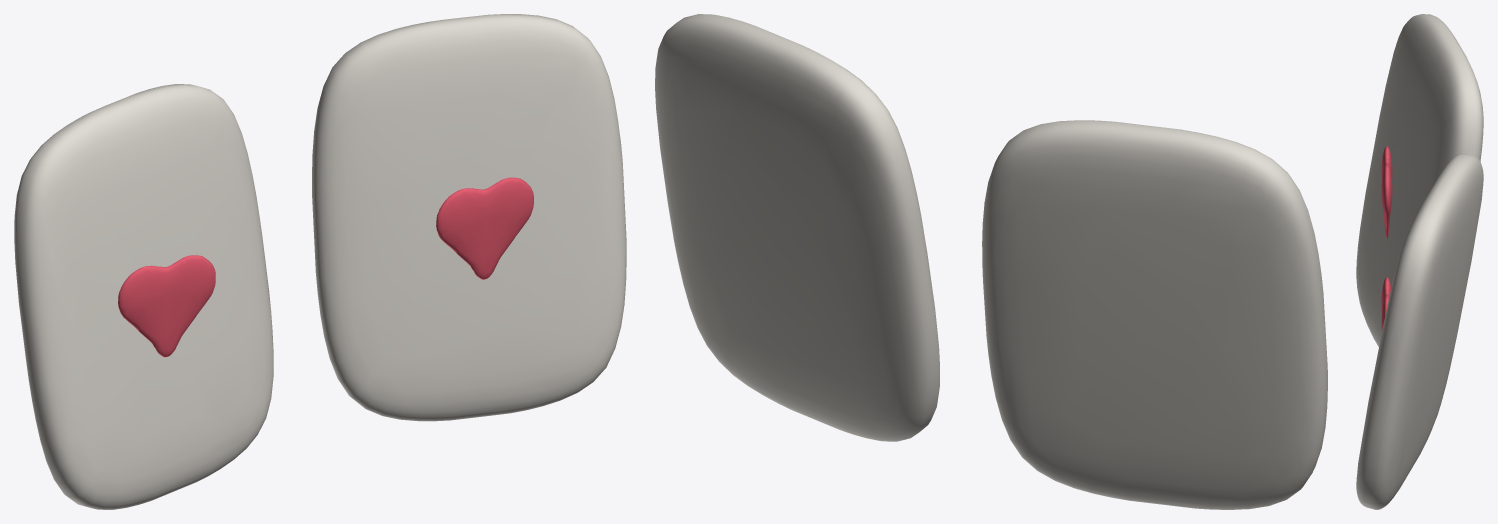
Rendered from deco_portarretrato.glb.
3 views of the same model, side by side, from view 1: azimuth 30°, elevation 25°; view 2: azimuth 150°, elevation 25°; view 3: azimuth 270°, elevation 25° (orthographic). The views are drawn at different scales.
Visible parts, largest first — view 1: marco portarretrato 1.001, marco portarretrato 0.001, corazón portarretrato 1.001, corazón portarretrato 0.001; view 2: marco portarretrato 0.001, marco portarretrato 1.001; view 3: marco portarretrato 1.001, marco portarretrato 0.001, corazón portarretrato 0.001, corazón portarretrato 1.001.
Boxes of the visible parts, x1,y1,x2,y2 form: marco portarretrato 1.001: (312,14,626,421); marco portarretrato 0.001: (14,84,273,509); corazón portarretrato 1.001: (436,177,533,279); corazón portarretrato 0.001: (118,255,215,357); marco portarretrato 0.001: (982,120,1327,509); marco portarretrato 1.001: (655,14,939,441); marco portarretrato 1.001: (1356,153,1483,509); marco portarretrato 0.001: (1356,14,1483,346); corazón portarretrato 0.001: (1381,146,1392,238); corazón portarretrato 1.001: (1381,277,1391,330).
Size of the model in its own units: 0.3013 by 0.1775 by 0.0657.
